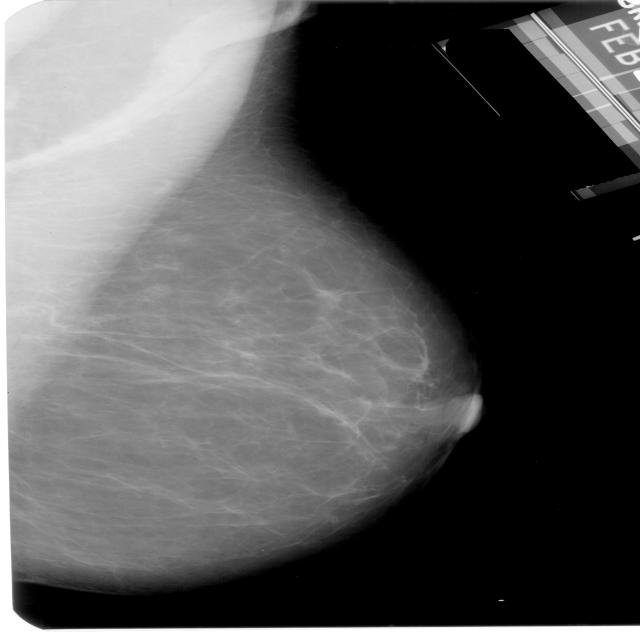normal: (0, 30, 482, 592)
